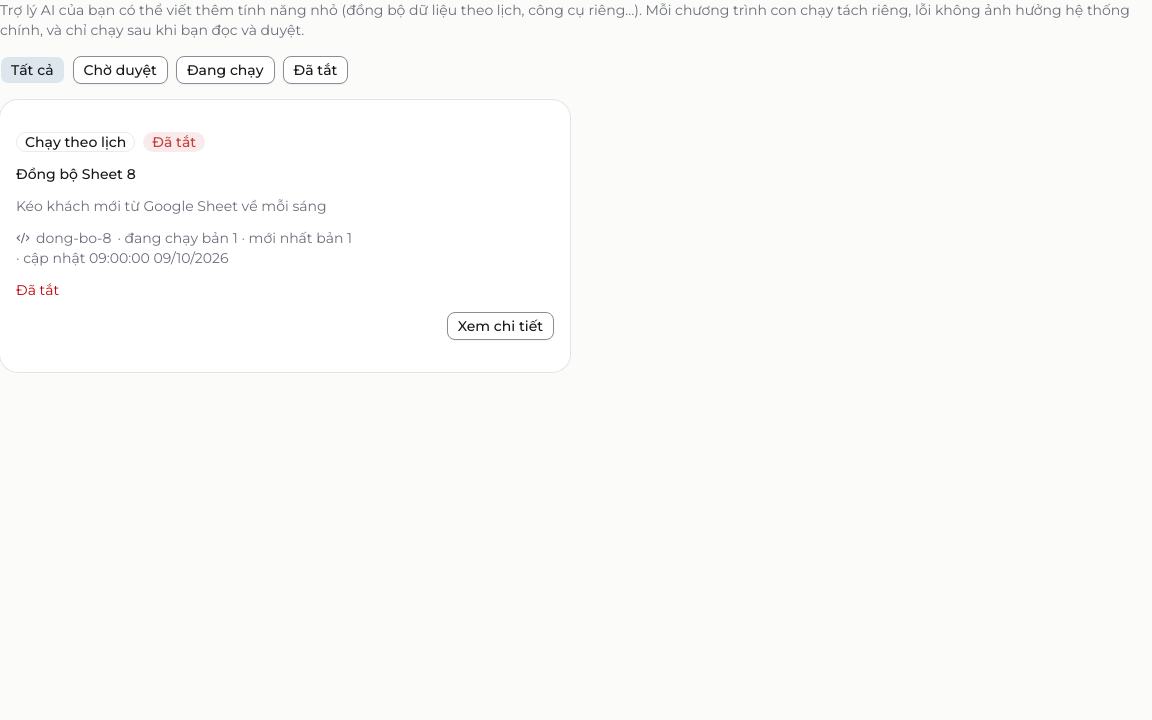
Test case: <ExtensionsScreen> › chữ hiển thị không dùng thuật ngữ MCP/API/OAuth/token
The width and height of the screenshot is (1152, 720).
Step 1. Click the button "Xem chi tiết" → (500, 326), box [447, 312, 554, 340]
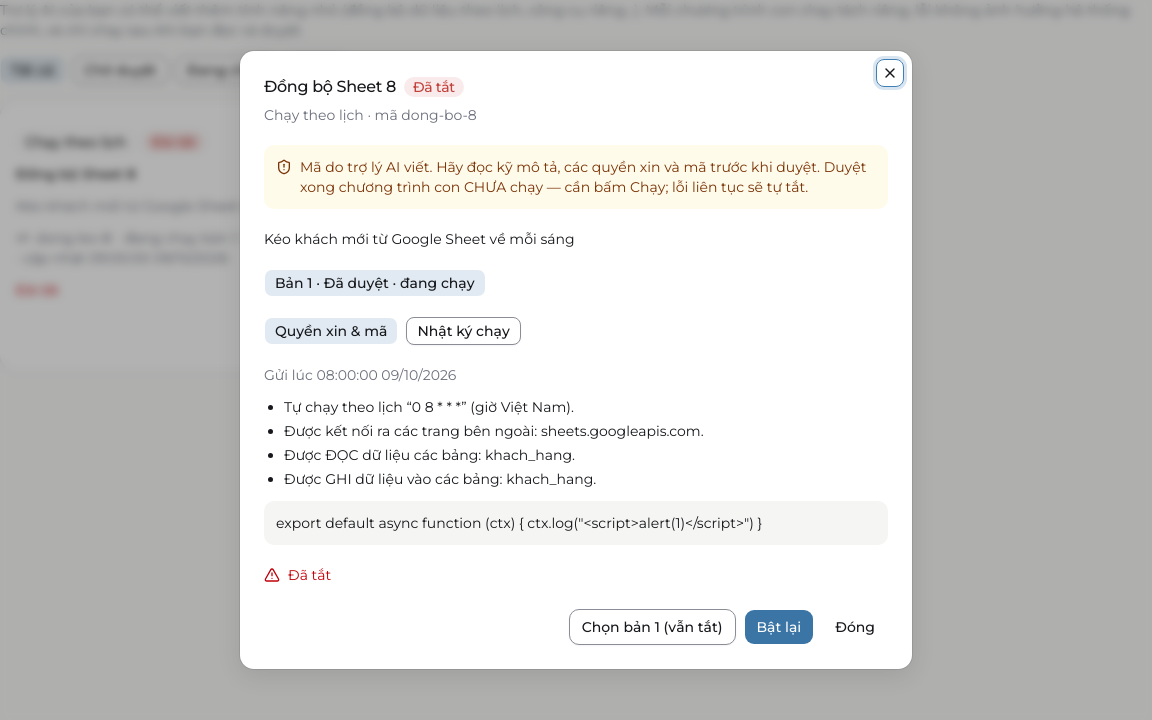
Check: the list with test id "extension-permissions" is shown, box [284, 398, 704, 488]
